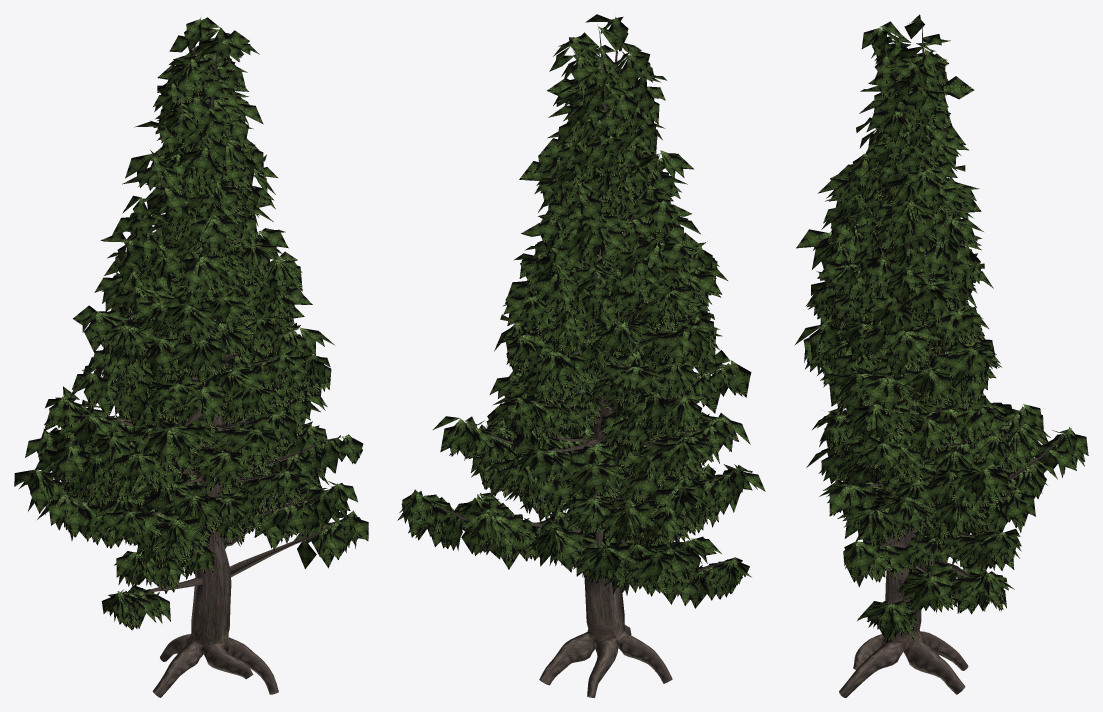
The model's file is tree.fbx.
The picture shows the model from 3 angles, left to right: view 1: azimuth 30°, elevation 25°; view 2: azimuth 150°, elevation 25°; view 3: azimuth 270°, elevation 25°; orthographic projection.
Parts seen in each view (by area): view 1: needle01:null_, needle01:null_1; view 2: needle01:null_, needle01:null_1; view 3: needle01:null_, needle01:null_1.
Boxes of the visible parts, left/top/right/bottom form: needle01:null_: left=14, top=17, right=368, bottom=630; needle01:null_1: left=46, top=40, right=345, bottom=697; needle01:null_: left=397, top=14, right=765, bottom=608; needle01:null_1: left=416, top=24, right=735, bottom=697; needle01:null_: left=794, top=14, right=1088, bottom=642; needle01:null_1: left=837, top=20, right=1066, bottom=697.
Bounding box in the file's own units: 4.53 × 9.57 × 3.84.
